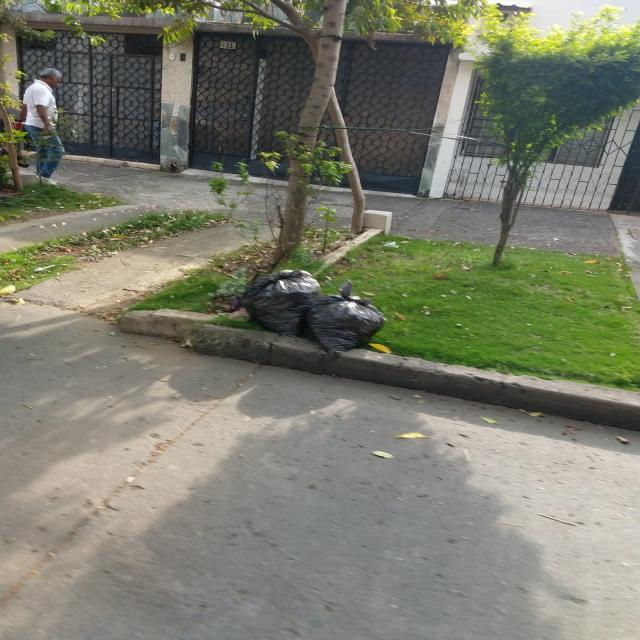Garbage_Bag: (307, 282, 385, 354), (247, 270, 321, 337)
